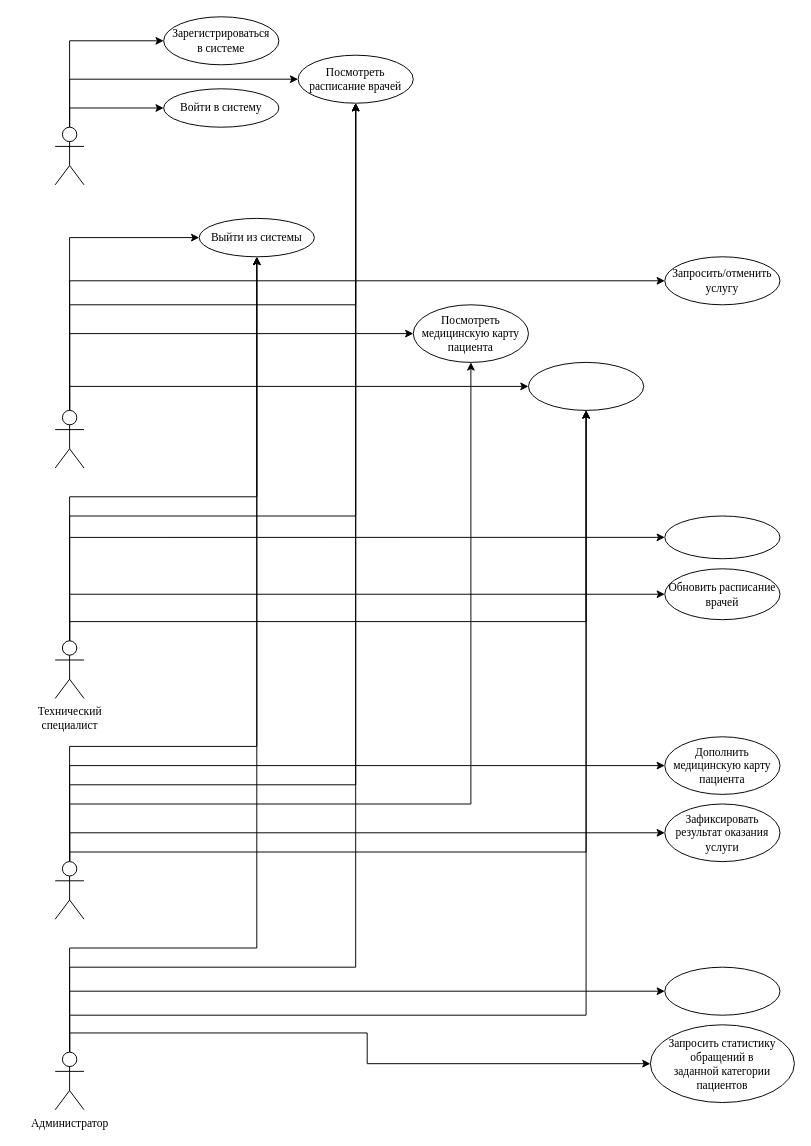
Image size: 811x1146. Some labels were removed from this diagram. The shapes that lost their labels are listed below. From the top down, each one's centre as x and y in pixels, then its label:
(69,155): Неавторизированный пользователь
(586,385): Посмотреть список услуг
(69,438): Пациент
(722,537): Согласовать услугу
(69,890): Доктор
(722,990): Добавить/удалить сотрудника
